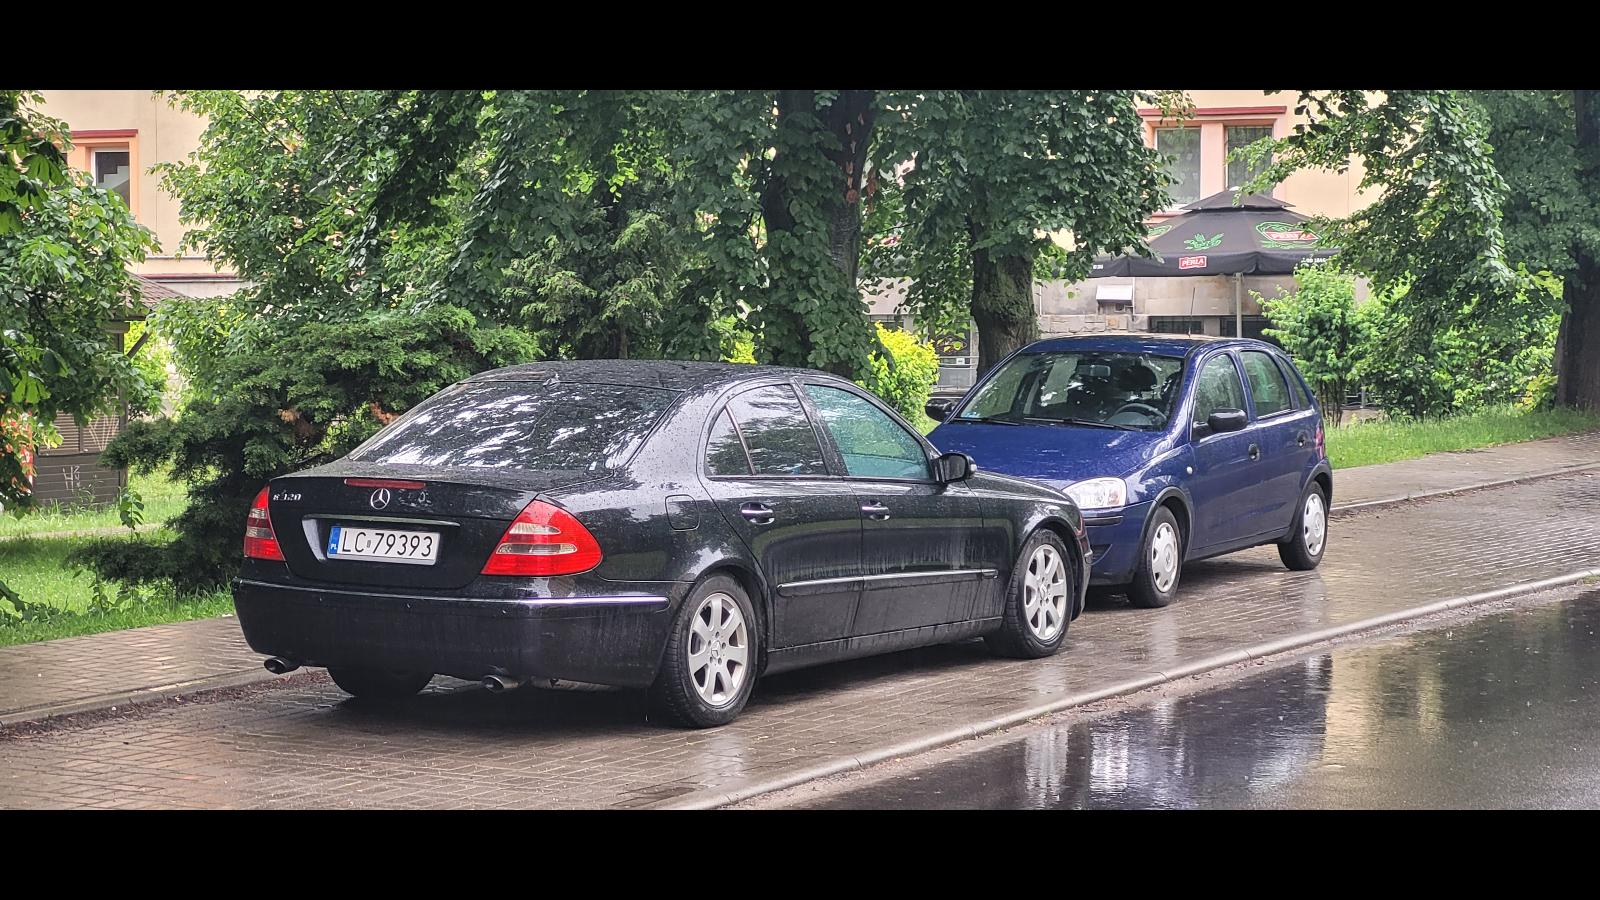plates: (328, 526, 440, 566)
